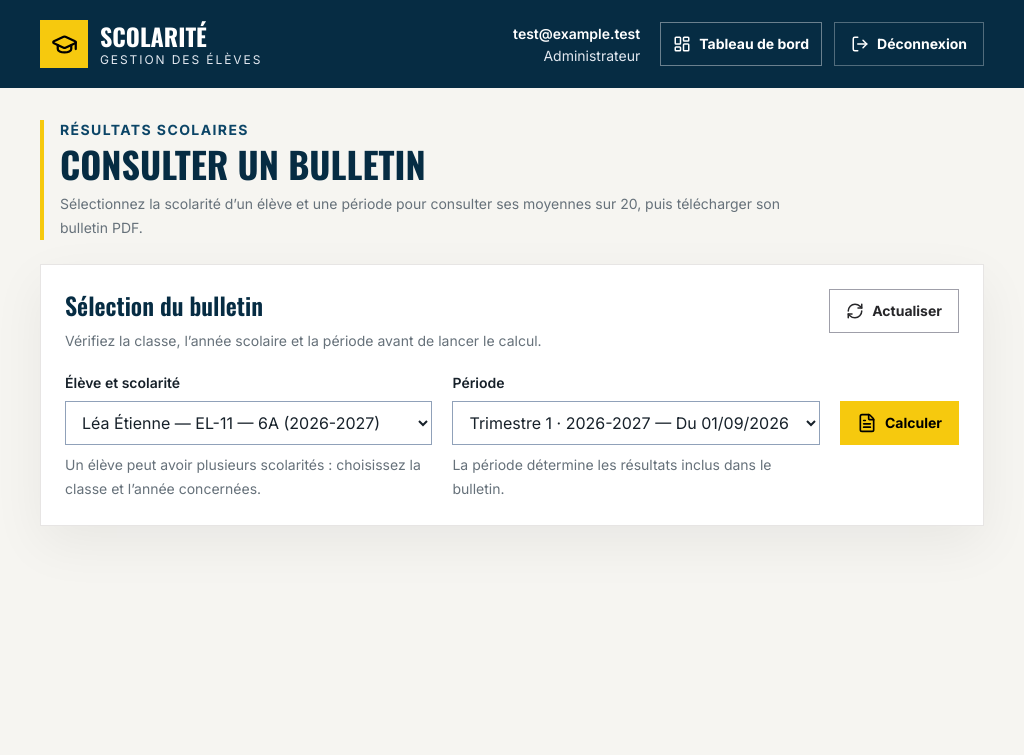
Test: bulletins › retire le bulletin courant lors d’un changement de Période
Click the button "Calculer".
click(899, 423)  # box [840,401,959,445]
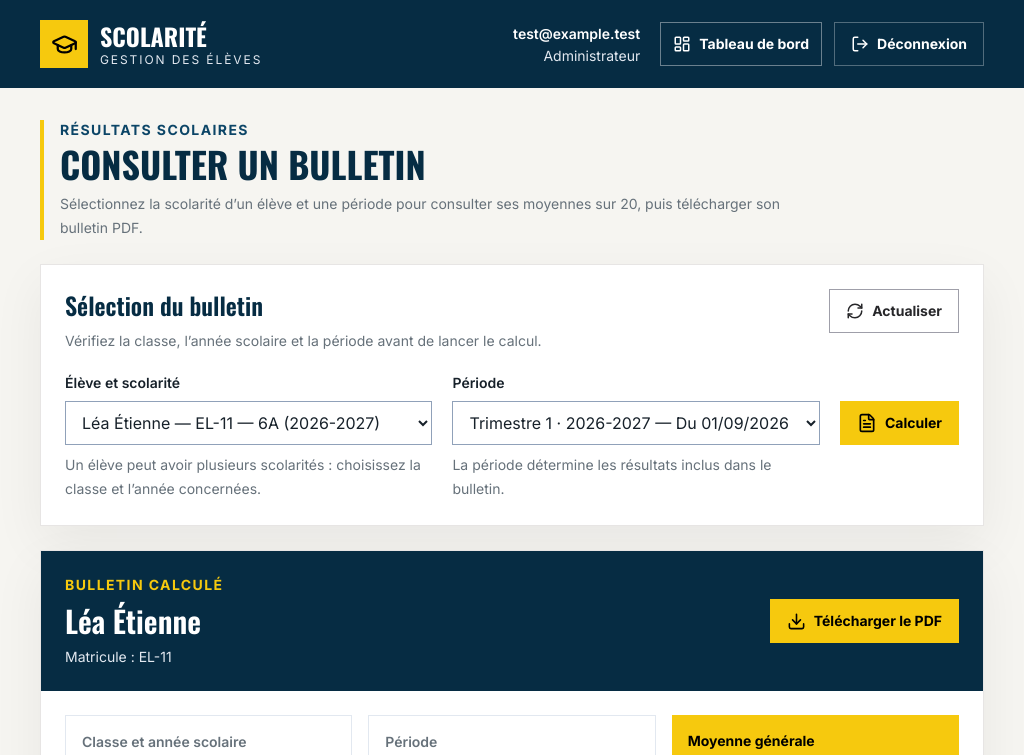
Expected: the heading "Léa Étienne" is shown, [65,603,224,639]
Select "Trimestre 2 · Année scolaire non renseignée — Depuis le 01/01/2027" in the dropdown labelled "Période" at x=636, y=423, box [452,401,820,445]
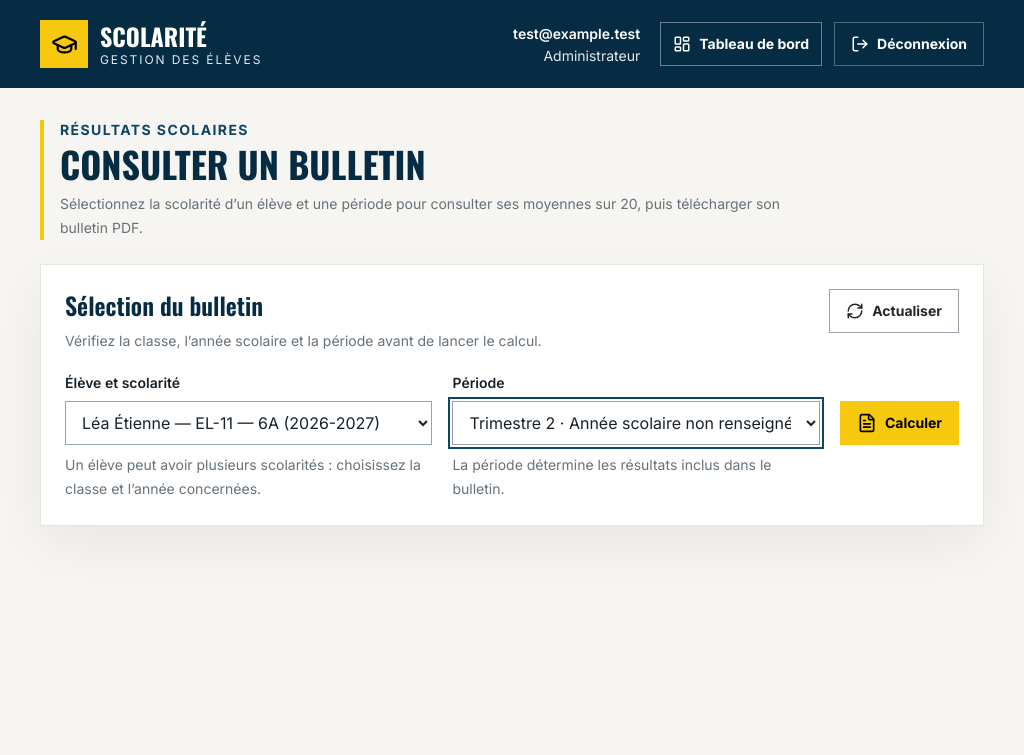
Expected: the button "Télécharger le PDF" is gone
